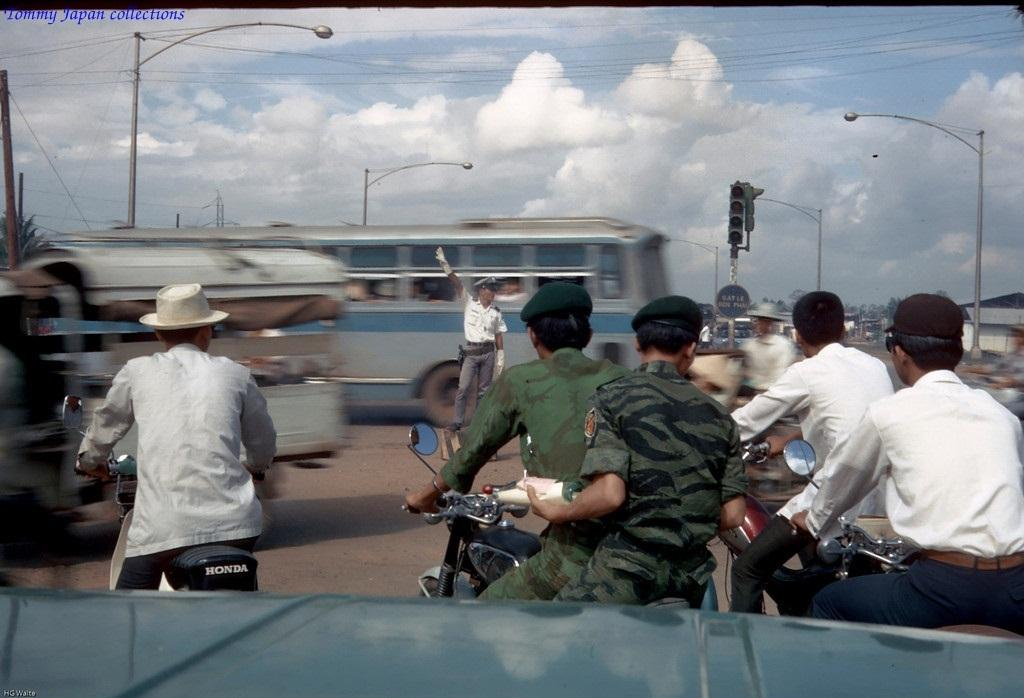Hat: (140, 282, 230, 334), (472, 272, 502, 289)
